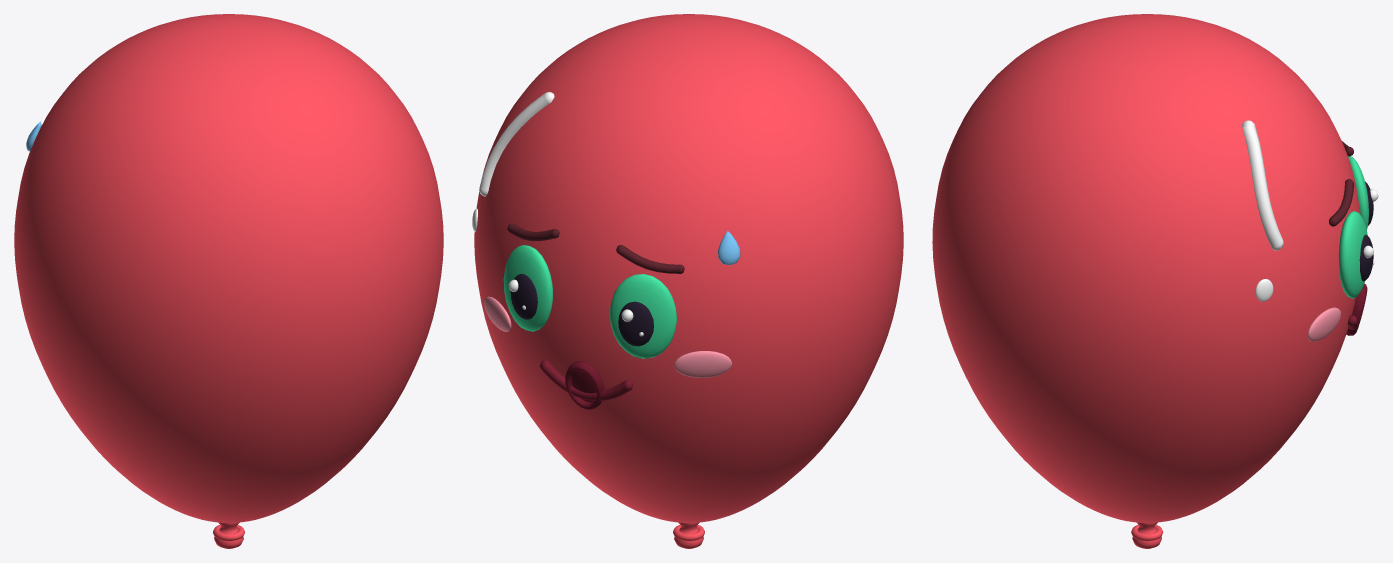
The model's file is PumpBalloon.obj.
The picture shows the model from 3 angles, left to right: view 1: azimuth 30°, elevation 25°; view 2: azimuth 150°, elevation 25°; view 3: azimuth 270°, elevation 25°; orthographic projection.
Parts seen in each view (by area): view 1: Skin; view 2: Skin, Eyes, Pupils, Blush, Gleam, Ooh, Brows, Smile, Sweat; view 3: Skin, Eyes, Gleam, Blush, Pupils, Brows.
Part boxes in pixels (bbox=[...]): Skin: bbox=[14, 14, 443, 548]; Skin: bbox=[474, 14, 903, 548]; Eyes: bbox=[503, 245, 676, 358]; Pupils: bbox=[510, 274, 653, 346]; Blush: bbox=[484, 296, 732, 377]; Gleam: bbox=[472, 92, 554, 231]; Ooh: bbox=[565, 361, 604, 409]; Brows: bbox=[507, 223, 684, 273]; Smile: bbox=[540, 360, 632, 400]; Sweat: bbox=[718, 230, 740, 265]; Skin: bbox=[932, 14, 1360, 548]; Eyes: bbox=[1338, 156, 1368, 298]; Gleam: bbox=[1242, 120, 1283, 301]; Blush: bbox=[1307, 307, 1340, 341]; Pupils: bbox=[1359, 181, 1373, 281]; Brows: bbox=[1329, 141, 1353, 226].
Bounding box in the file's own units: 11.45 × 15 × 11.89.
